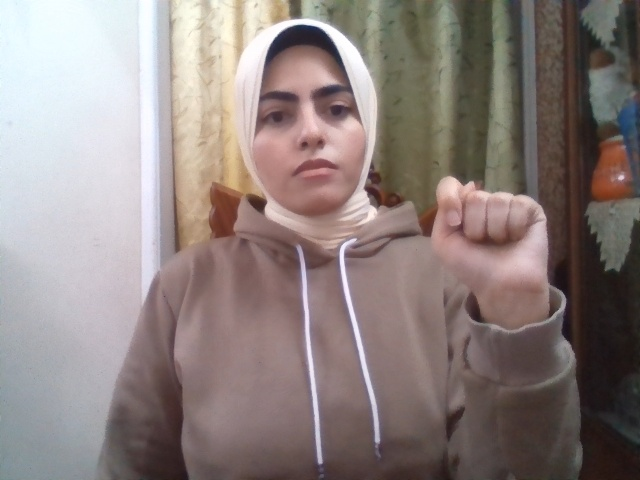T: (431, 176, 549, 295)
